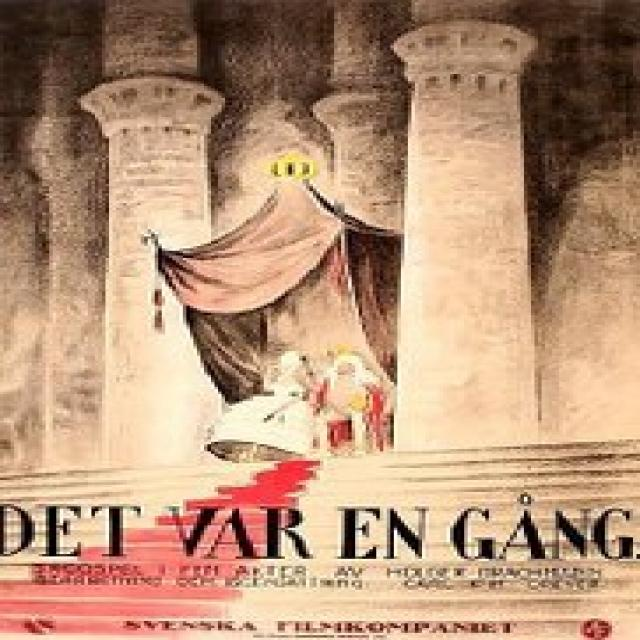movie-judul: (5, 491, 640, 574)
picture: (185, 346, 418, 500)
